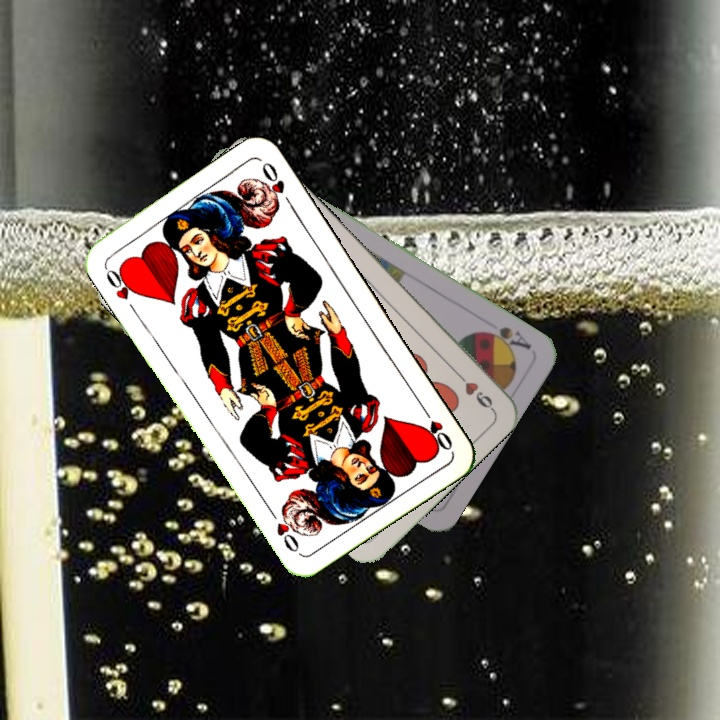H9: (450, 366, 496, 413)
HO: (416, 401, 455, 453), (100, 262, 142, 303)
SA: (476, 322, 534, 354)
